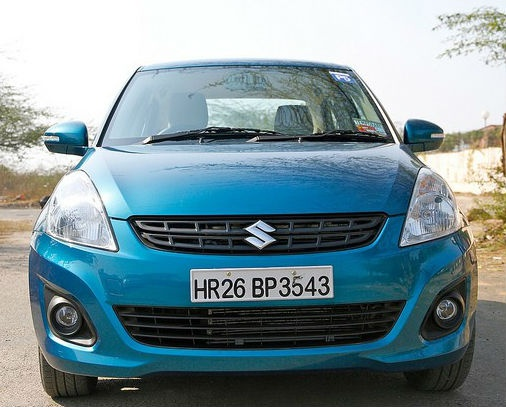plate: (179, 265, 344, 321)
